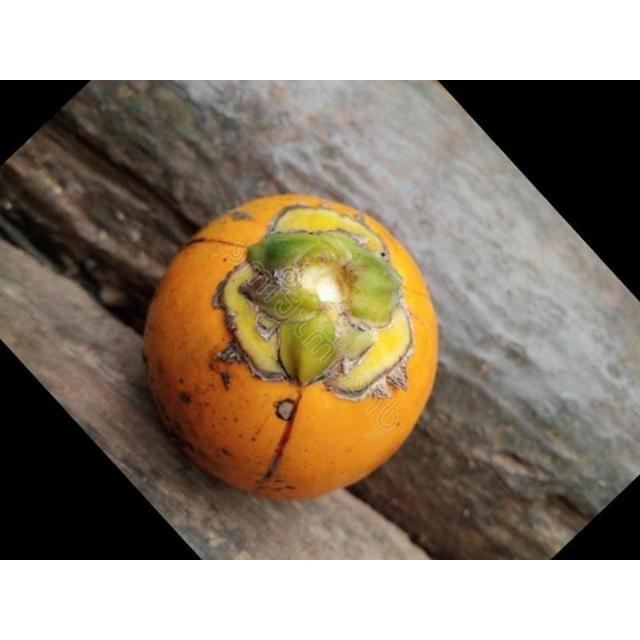good: (142, 194, 441, 502)
